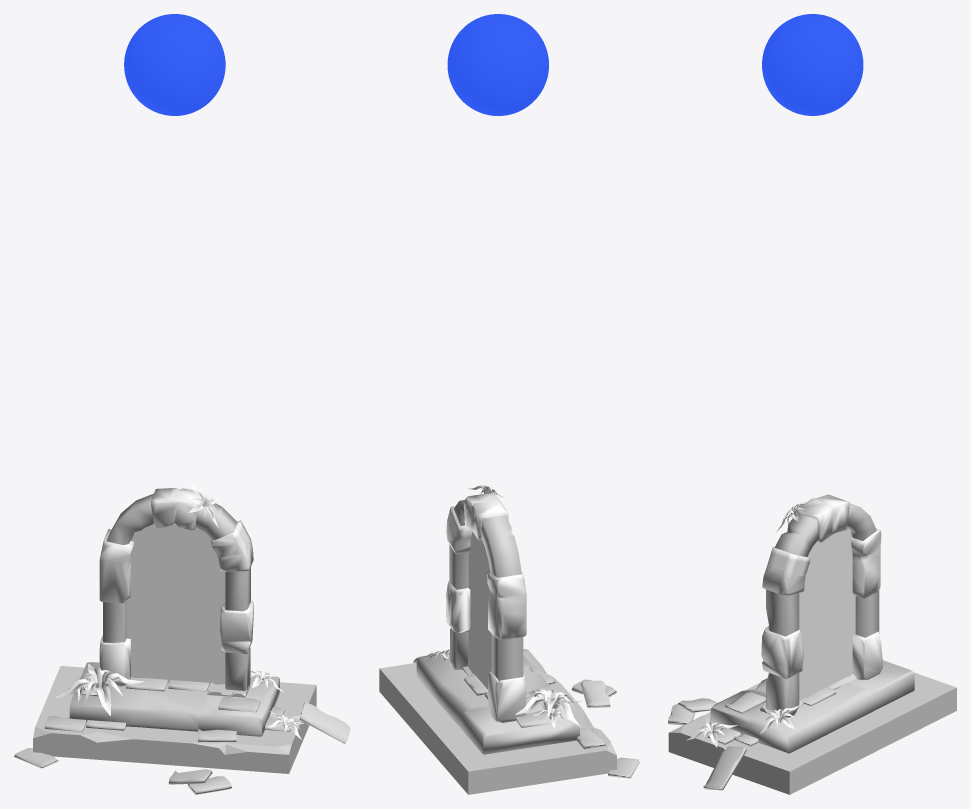
The model's file is portal.glb.
3 views of the same model, side by side, from view 1: azimuth 30°, elevation 25°; view 2: azimuth 150°, elevation 25°; view 3: azimuth 270°, elevation 25° (orthographic).
Visible parts, largest first — view 1: portal, setp 1, Sphere, portal decorations, step 2, arch, plant, Cube.009; view 2: setp 1, Sphere, portal decorations, step 2, arch, portal, plant, Cube.011; view 3: setp 1, Sphere, portal decorations, portal, step 2, arch, Cube.009, Cube.
Part boxes in pixels (x1,y1,x2,y2): portal: (126, 524, 225, 685); setp 1: (33, 666, 316, 773); Sphere: (124, 14, 225, 115); portal decorations: (99, 487, 253, 686); step 2: (69, 662, 279, 736); arch: (103, 493, 250, 690); plant: (55, 664, 144, 715); Cube.009: (299, 702, 350, 743); setp 1: (379, 649, 616, 794); Sphere: (447, 14, 548, 115); portal decorations: (446, 492, 526, 722); step 2: (416, 653, 579, 754); arch: (449, 500, 523, 683); portal: (467, 532, 491, 689); plant: (515, 688, 582, 726); Cube.011: (581, 680, 610, 708); setp 1: (668, 672, 956, 794); Sphere: (762, 14, 863, 115); portal decorations: (761, 494, 882, 680); portal: (799, 528, 855, 700); step 2: (710, 660, 914, 753); arch: (766, 503, 879, 717); Cube.009: (703, 746, 746, 790); Cube: (725, 692, 765, 713).
Bounding box in the file's own units: 6.22 × 15.34 × 5.62.
